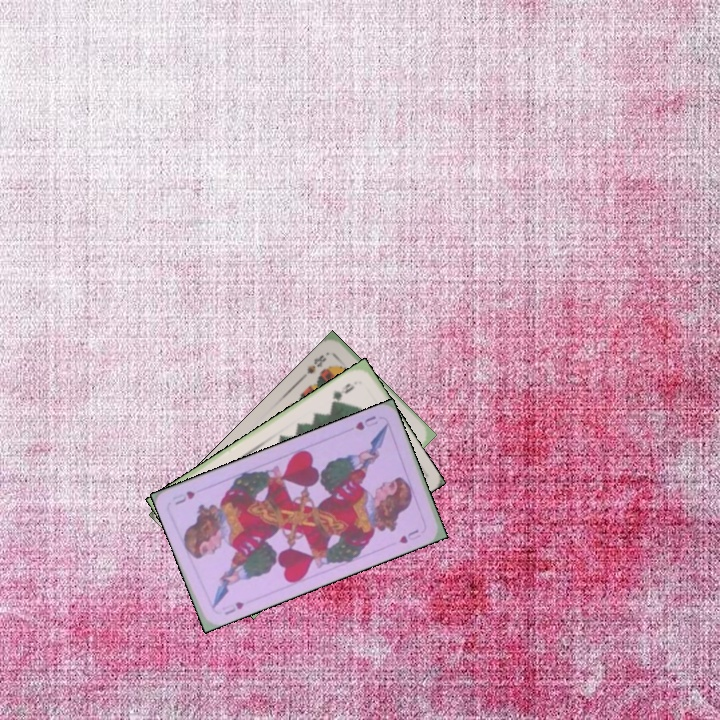G9: (327, 379, 357, 406)
HU: (351, 412, 380, 433), (220, 597, 247, 618)
S8: (299, 350, 329, 380)
